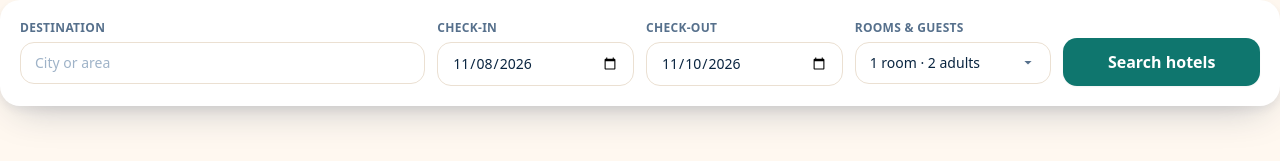
it: SearchWidget validation › blocks submission and explains why when no destination is chosen
Click the button with test id "search-submit": [1162, 62] box [1063, 38, 1260, 86]
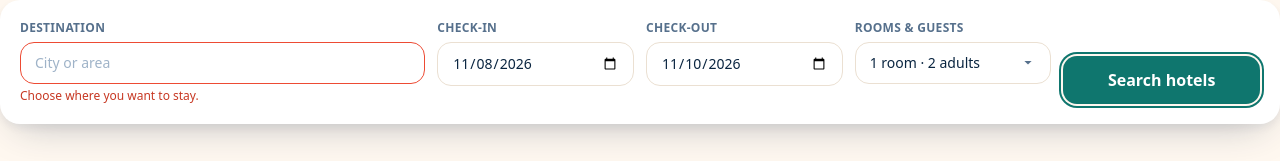
expect the text "Choose where you want to stay." is shown: met, box [20, 87, 199, 104]
